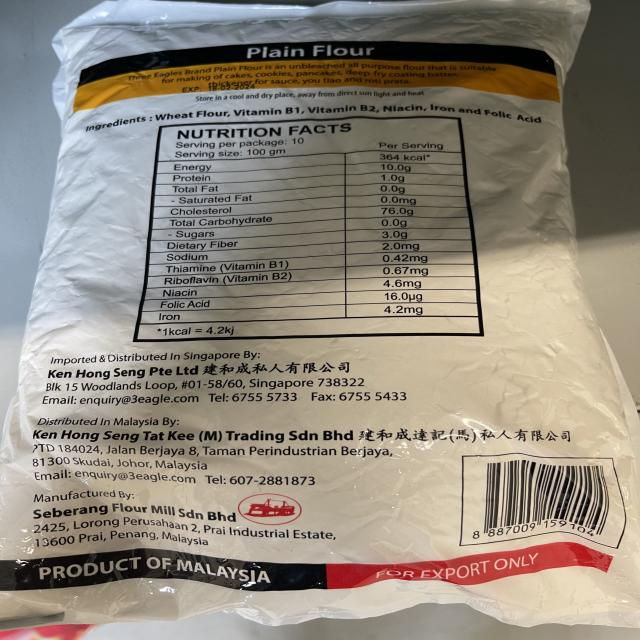object_name: (42, 5, 611, 626)
